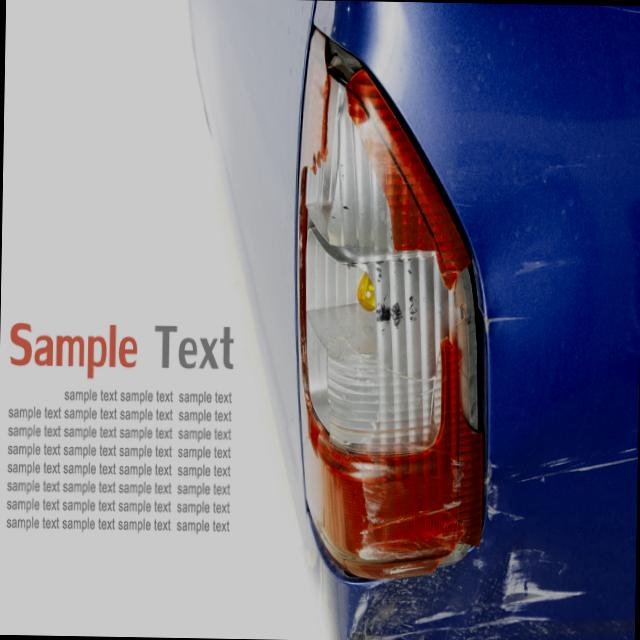Phare abime: (293, 40, 481, 538)
Rayure: (292, 451, 638, 640)
